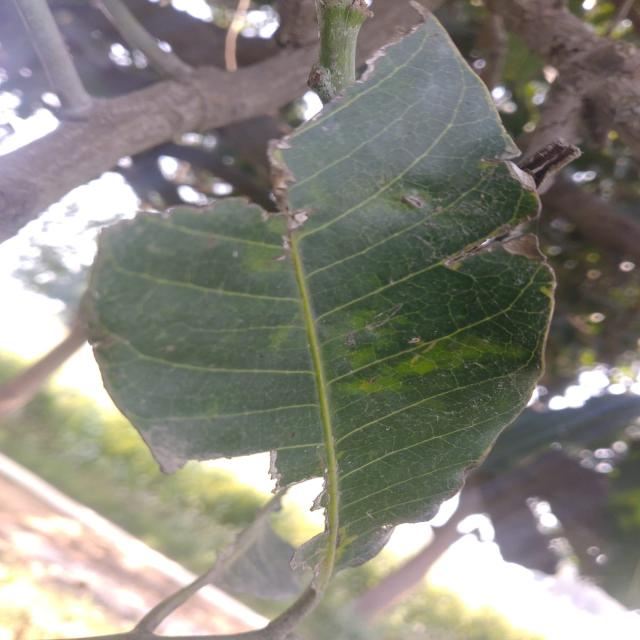Anthracnose: (102, 373, 214, 479)
